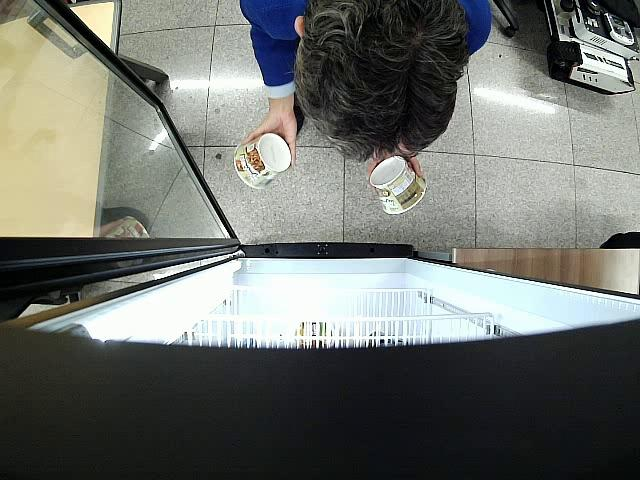00_hand: (241, 103, 297, 167), (367, 148, 424, 189)
03_chapagetti_L: (369, 155, 427, 214), (234, 133, 291, 189)
